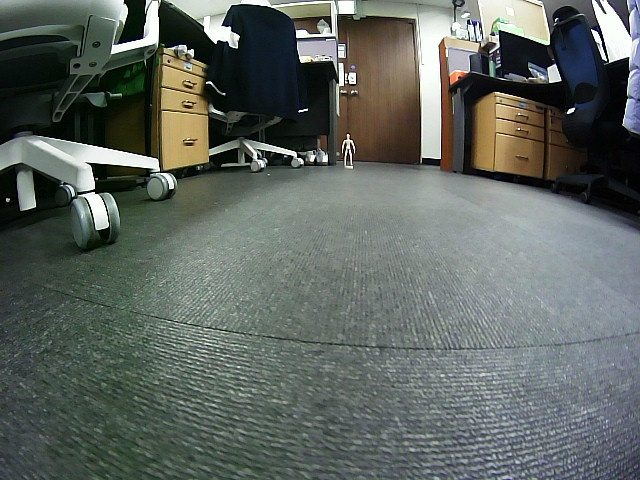person: (341, 133, 355, 167)
